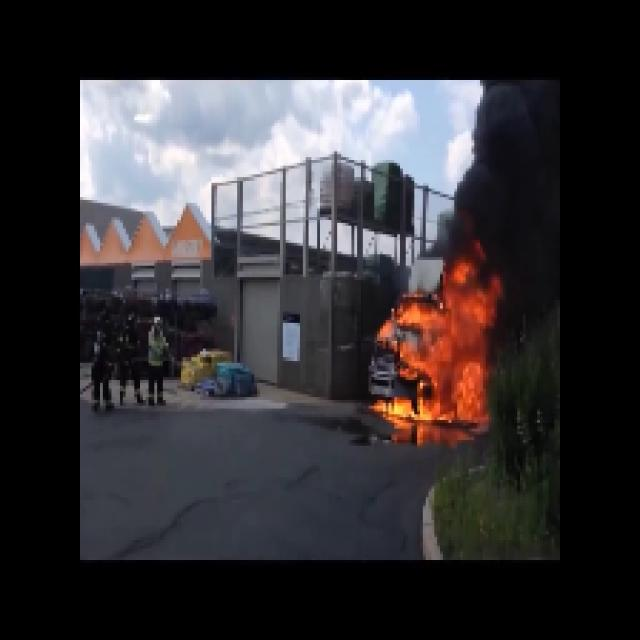fire: (396, 278, 490, 436)
smoke: (454, 68, 554, 274)
